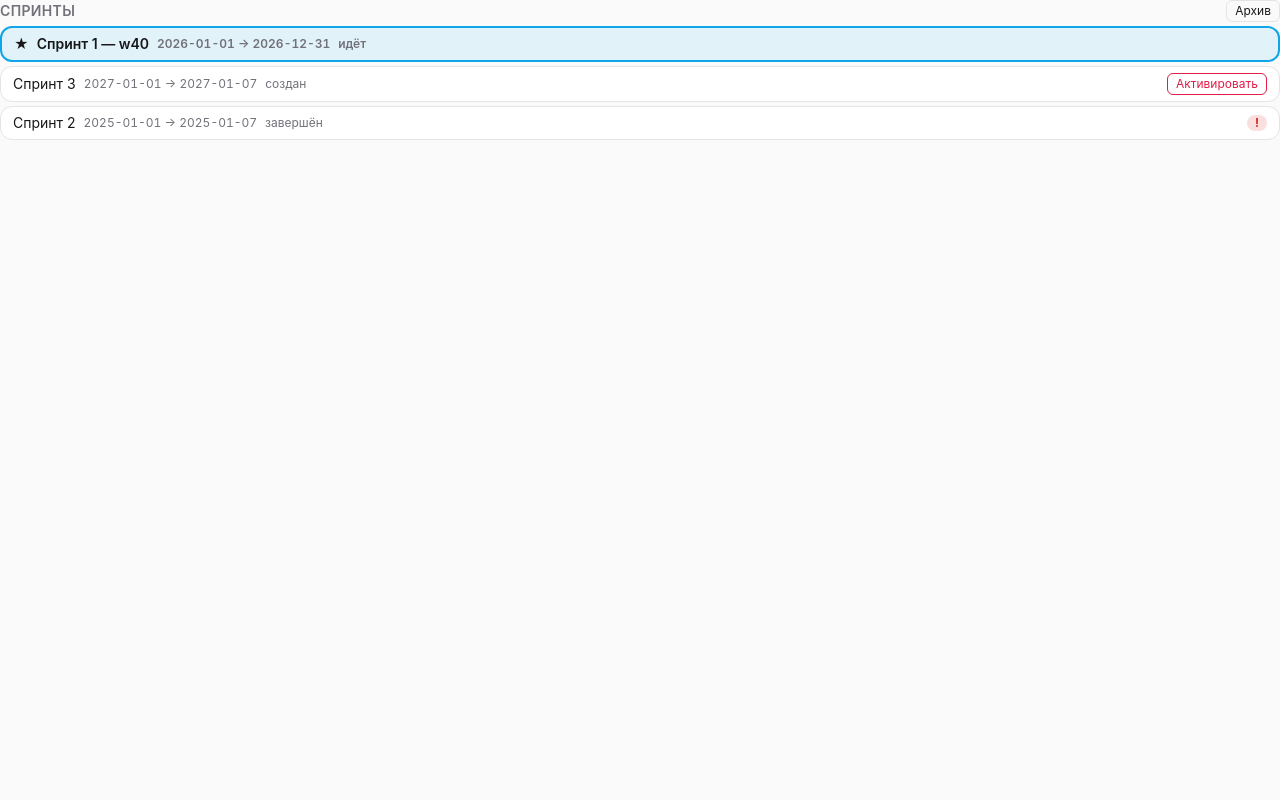
it: SprintList › a finished card of a closed sprint gets no fate menu (DF29/DF30)
The image size is (1280, 800).
Click the button with test id "sprint.row-open-s-old" at (44, 122), box [13,113,1239,133]
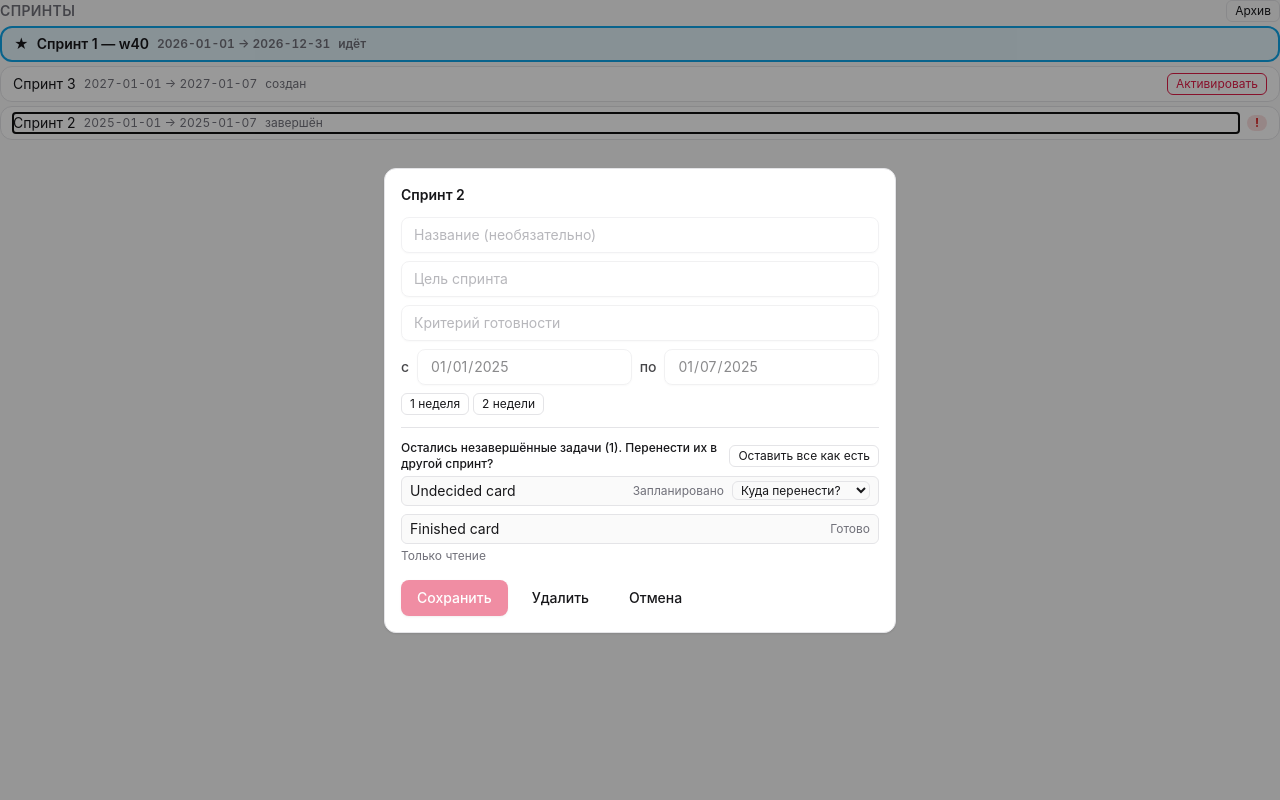
Expected: the dropdown with test id "sprint.fate-c-1" is shown, [732,481,870,500]
Expected: the link with test id "sprint.task-open-c-done" reads "Finished card", [410,520,499,536]
